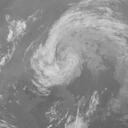cyclone: (29, 42, 84, 87)
